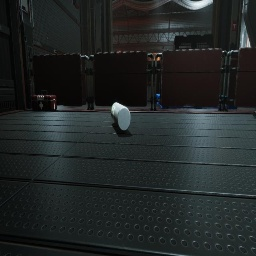0: (111, 102, 131, 131)
FireAlarm ,: (231, 20, 237, 31)
FirstAidBox ,: (32, 90, 57, 112)
